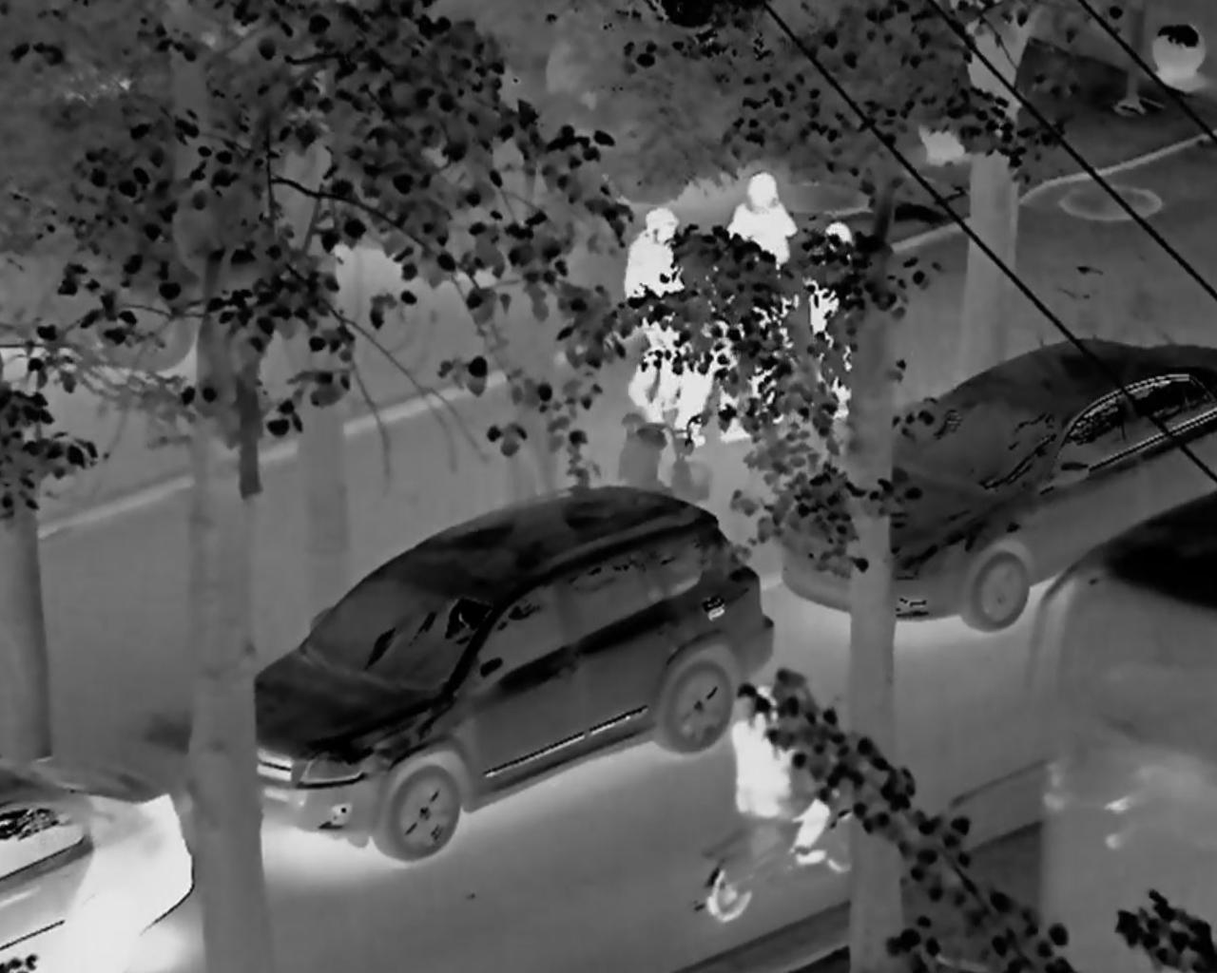person: (698, 685, 859, 913), (615, 196, 687, 431), (802, 220, 871, 443), (721, 174, 798, 356), (688, 294, 760, 449)
